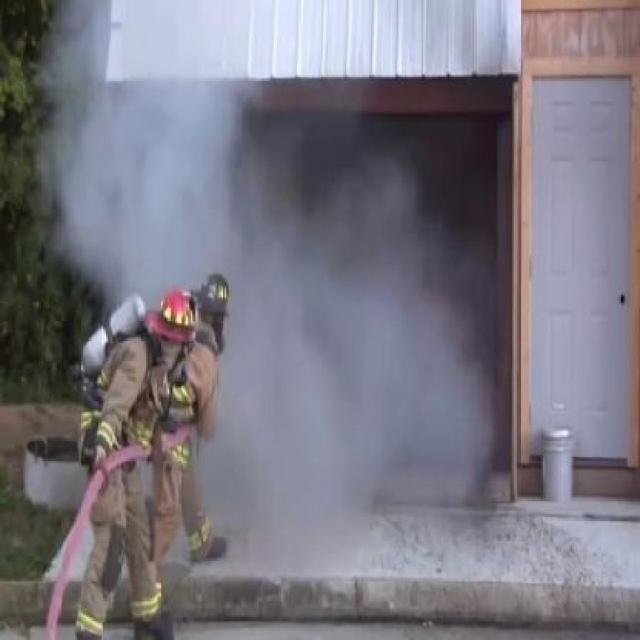smoke: (64, 19, 282, 267), (302, 160, 468, 477)
